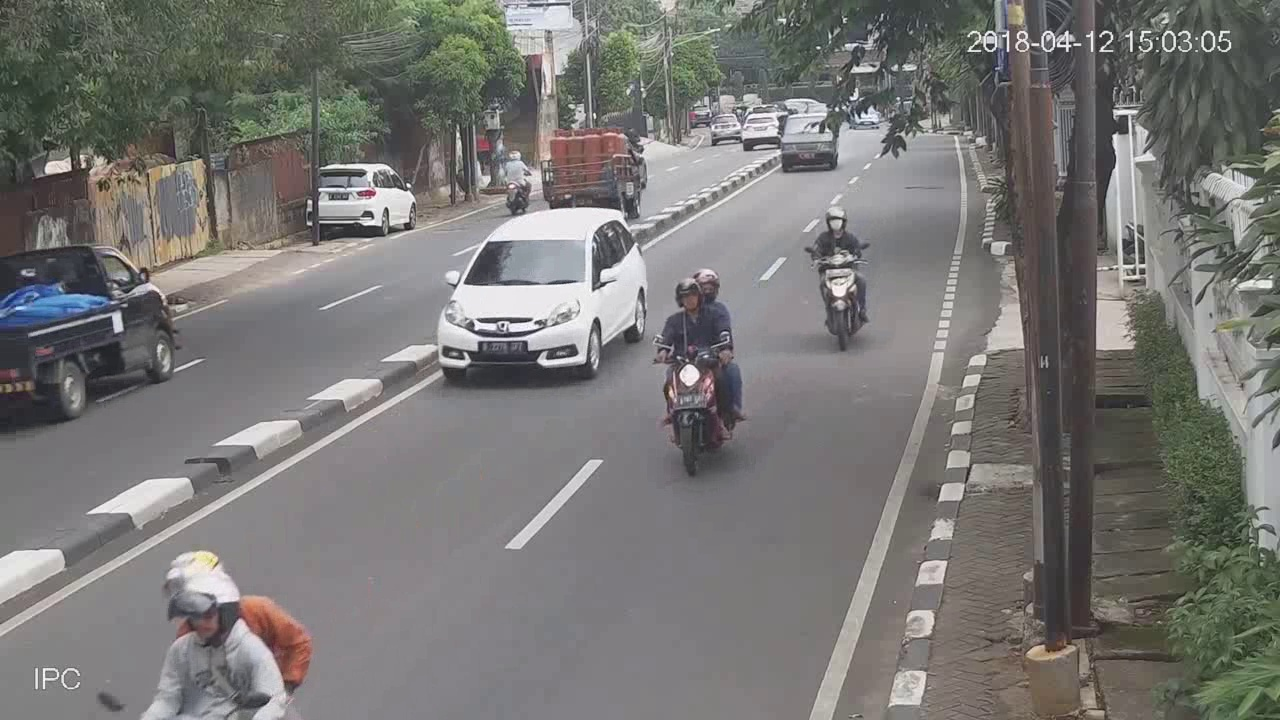car: (437, 203, 651, 388), (307, 150, 419, 250), (780, 108, 837, 173), (743, 111, 779, 150), (710, 114, 741, 146)
motorcycle: (651, 268, 749, 477), (799, 200, 876, 354), (496, 143, 537, 216)
truck: (1, 245, 187, 424), (539, 132, 643, 208)
